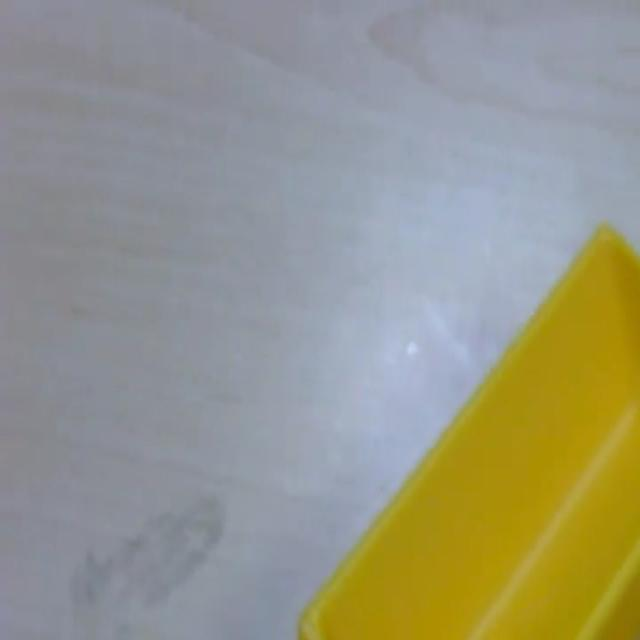yellow_block: (296, 219, 638, 637)
